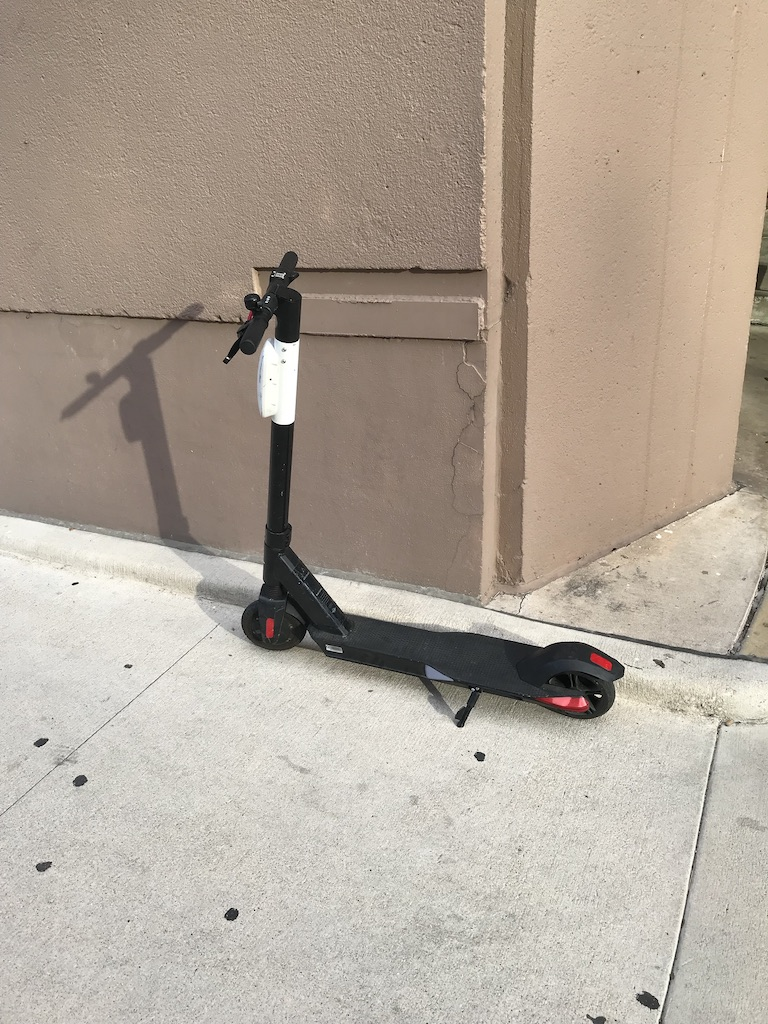scooter: (222, 250, 627, 720)
